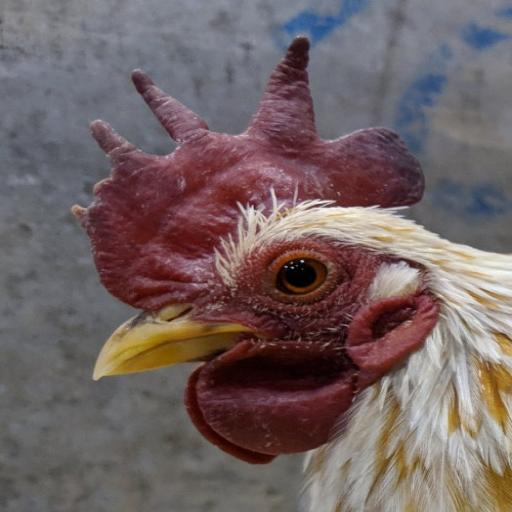disease: (45, 148, 148, 248), (360, 108, 434, 216), (256, 28, 336, 108), (230, 148, 310, 208)
